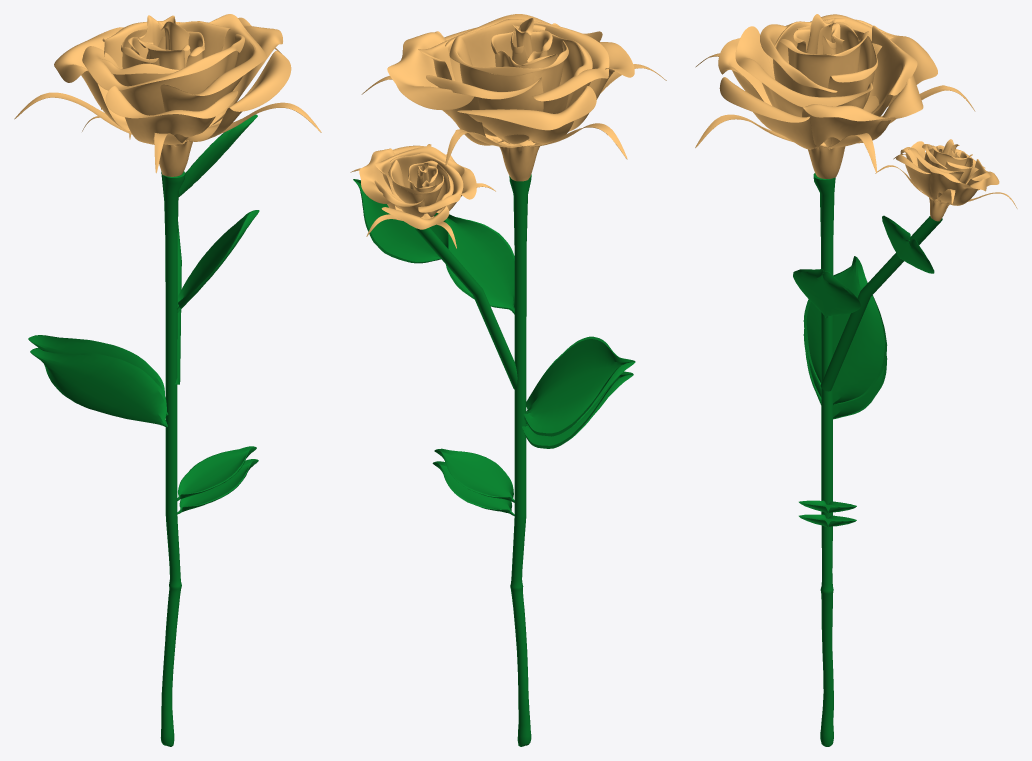
The model's file is rosecreamcp.glb.
The picture shows the model from 3 angles, left to right: view 1: azimuth 30°, elevation 25°; view 2: azimuth 150°, elevation 25°; view 3: azimuth 270°, elevation 25°; orthographic projection.
Parts seen in each view (by area): view 1: List-02; view 2: List-02; view 3: List-02.
Boxes of the visible parts, x1,y1,x2,y2 form: List-02: (14, 14, 321, 746); List-02: (350, 14, 666, 746); List-02: (695, 14, 1017, 746).
Size of the model in its own units: 1.59 by 4.14 by 1.66.
